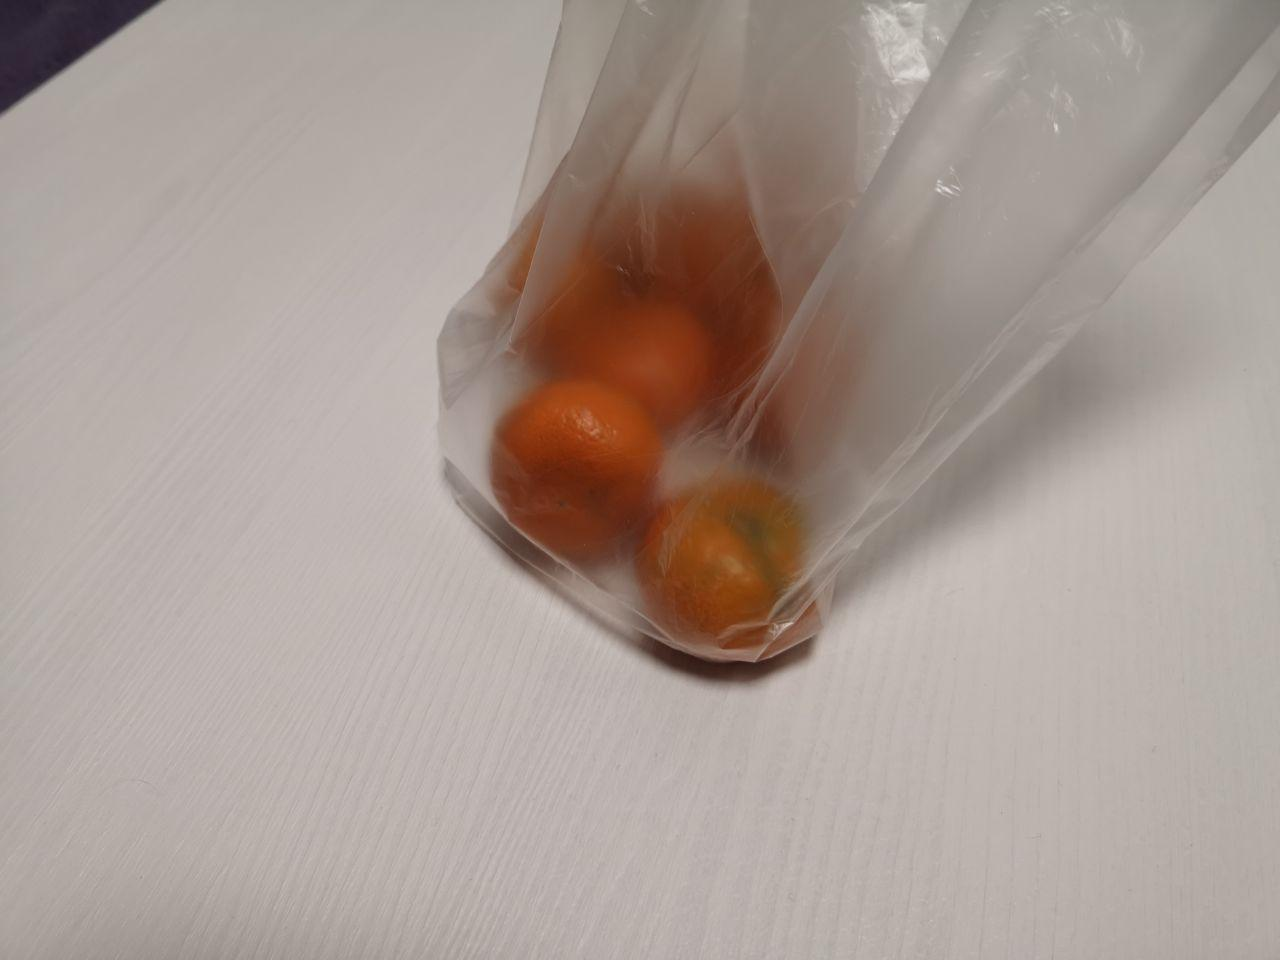clementin: (392, 138, 978, 710)
